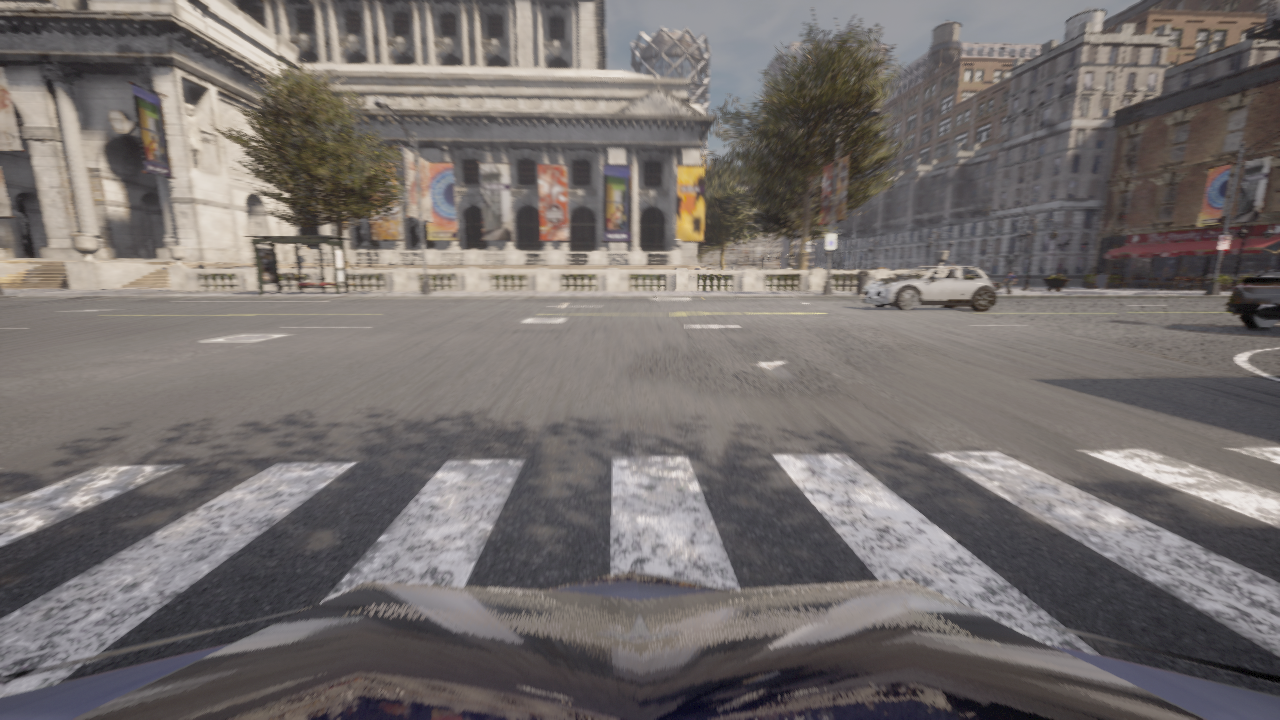cyclist: (0, 569, 1279, 719), (863, 265, 996, 310), (1226, 270, 1279, 328)
pedestrian: (1005, 271, 1015, 293), (950, 261, 953, 265)
